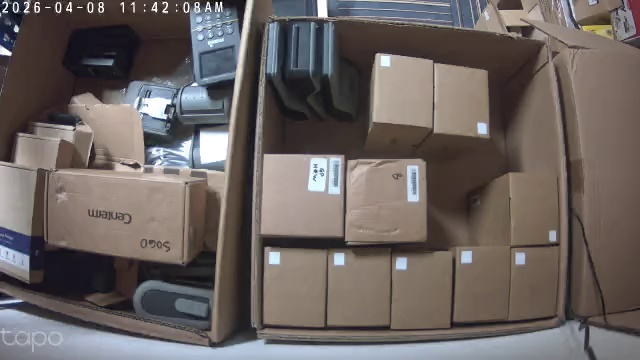box: (259, 152, 345, 238), (344, 157, 427, 245), (467, 169, 559, 246), (364, 51, 433, 153), (261, 245, 327, 328), (326, 247, 391, 328), (390, 249, 453, 329), (450, 245, 510, 325), (432, 61, 490, 139), (508, 245, 559, 322)
